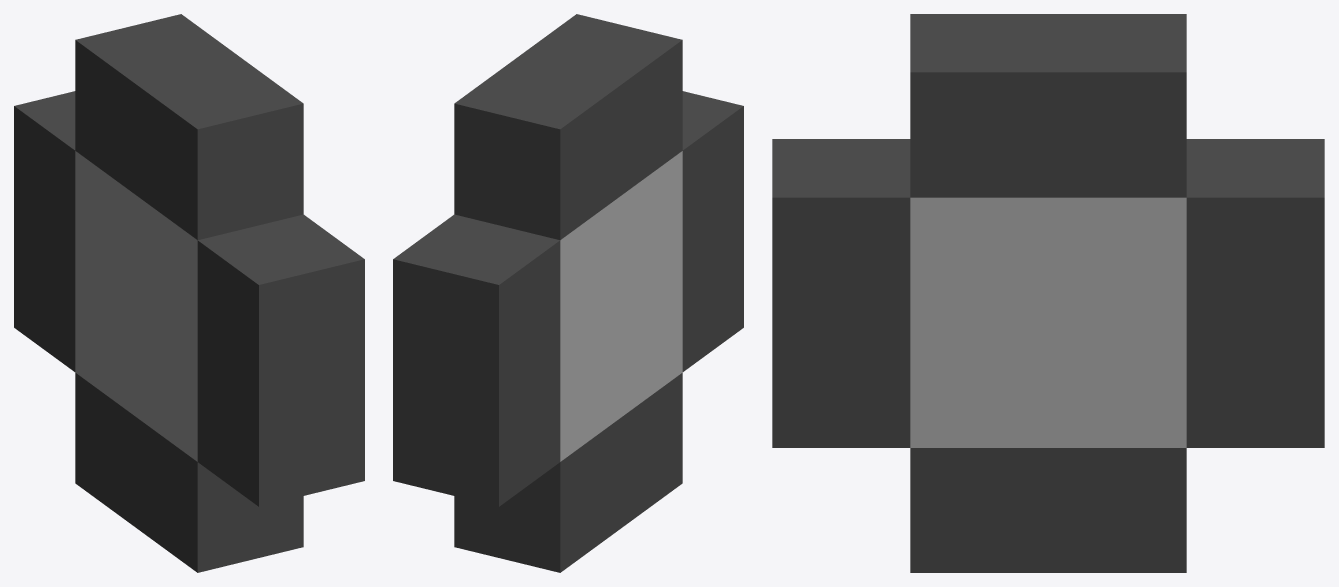
The model's file is police_car_wheel.obj.
The picture shows the model from 3 angles, left to right: view 1: azimuth 30°, elevation 25°; view 2: azimuth 150°, elevation 25°; view 3: azimuth 270°, elevation 25°; orthographic projection. The views are drawn at different scales.
Visible parts, largest first — view 1: Wheel; view 2: Wheel; view 3: Wheel.
Part boxes in pixels (<box>): Wheel: <box>14,14,364,572</box>; Wheel: <box>393,14,743,572</box>; Wheel: <box>772,14,1324,572</box>.
Size of the model in its own units: 0.1 by 0.4 by 0.4.
1 material, 1 textured.
